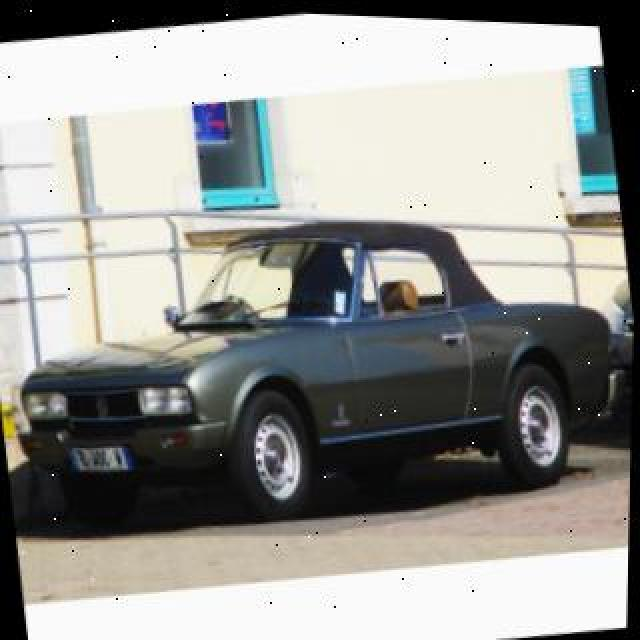Autre: (66, 444, 137, 476)
